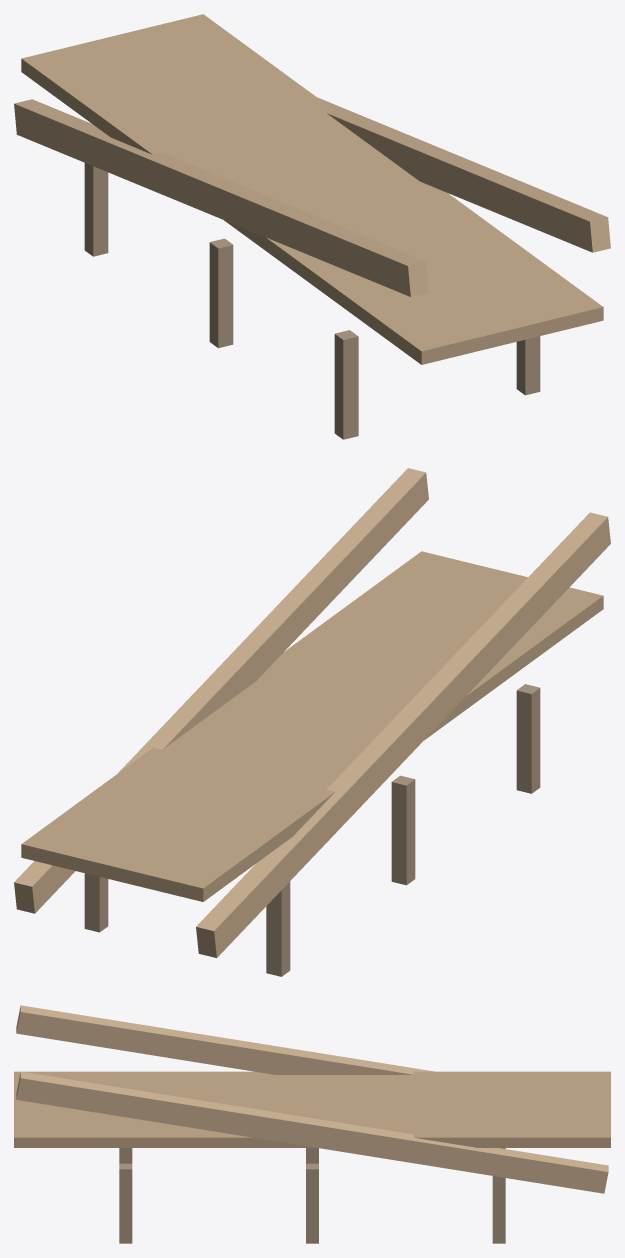
Rendered from logging_chute_far-Bak9iPHc.glb.
The picture shows the model from 3 angles, top to bottom: view 1: azimuth 30°, elevation 25°; view 2: azimuth 150°, elevation 25°; view 3: azimuth 270°, elevation 25°; orthographic projection. The views are drawn at different scales.
Visible parts, largest first — view 1: logging_chute_far; view 2: logging_chute_far; view 3: logging_chute_far.
Boxes of the visible parts, box(x1,y1,x2,y2) form: logging_chute_far: box(14, 14, 610, 439); logging_chute_far: box(14, 468, 610, 976); logging_chute_far: box(14, 1005, 610, 1243).
Size of the model in its own units: 4.62 by 4.91 by 16.
